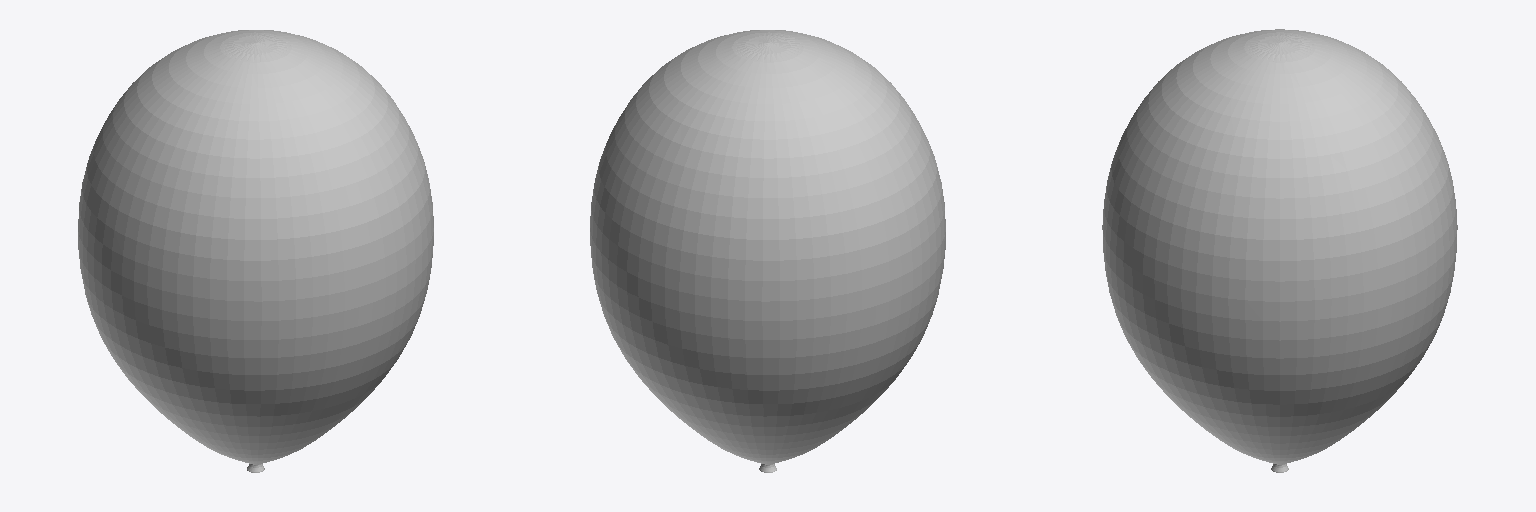
Rendered from Globo20.obj.
3 views of the same model, side by side, from view 1: azimuth 30°, elevation 25°; view 2: azimuth 150°, elevation 25°; view 3: azimuth 270°, elevation 25° (orthographic).
Visible parts, largest first — view 1: Sphere.004; view 2: Sphere.004; view 3: Sphere.004.
Boxes of the visible parts, box(x1,y1,x2,y2) form: Sphere.004: box(78, 30, 433, 472); Sphere.004: box(590, 30, 945, 472); Sphere.004: box(1102, 29, 1457, 472).
Bounding box in the file's own units: 0.5211 × 0.688 × 0.519.